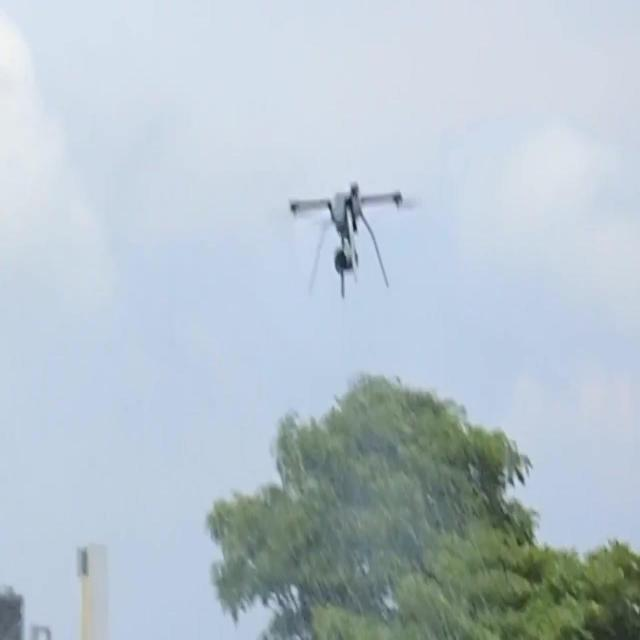UAV: (289, 180, 415, 300)
